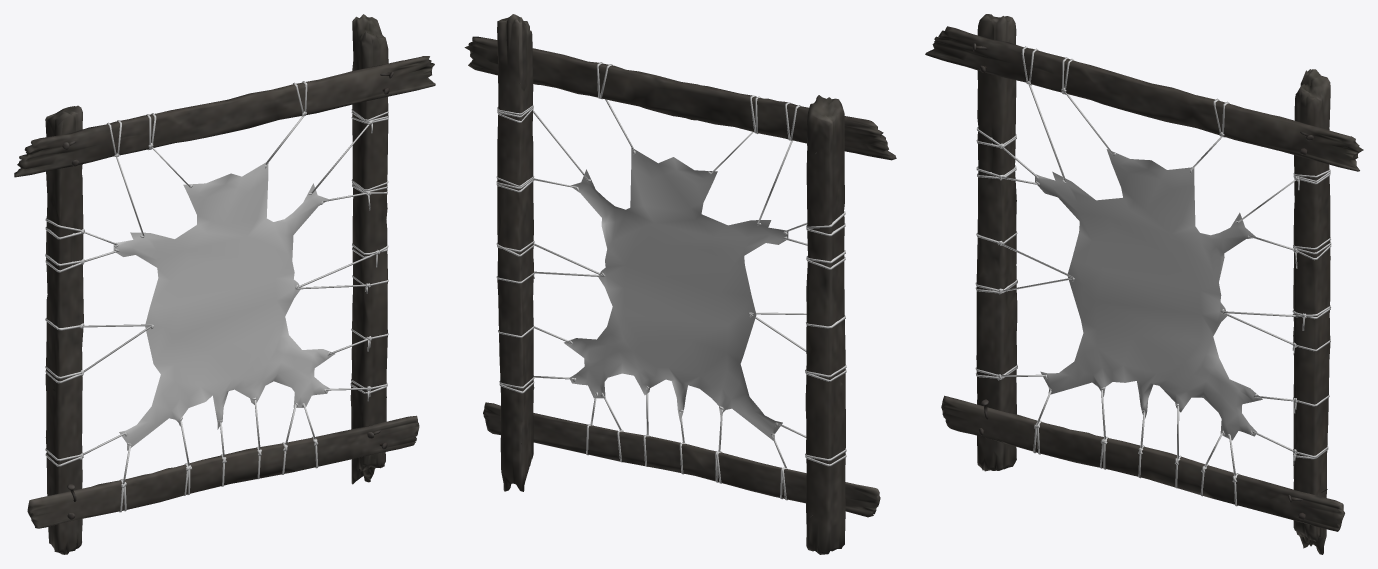
Rendered from Leather_01.fbx.
3 renders of one model, left to right at view 1: azimuth 30°, elevation 25°; view 2: azimuth 150°, elevation 25°; view 3: azimuth 330°, elevation 25°, orthographic. The views are drawn at different scales.
Parts seen in each view (by area): view 1: Leather_Frame, Leather; view 2: Leather_Frame, Leather; view 3: Leather_Frame, Leather.
Boxes of the visible parts, x1,y1,x2,y2 form: Leather_Frame: (14, 14, 435, 554); Leather: (45, 81, 388, 512); Leather_Frame: (464, 14, 896, 554); Leather: (496, 62, 846, 500); Leather_Frame: (925, 14, 1363, 554); Leather: (975, 46, 1331, 506).
Size of what is drawn, in the model's own units: 184 by 195 by 17.17.
